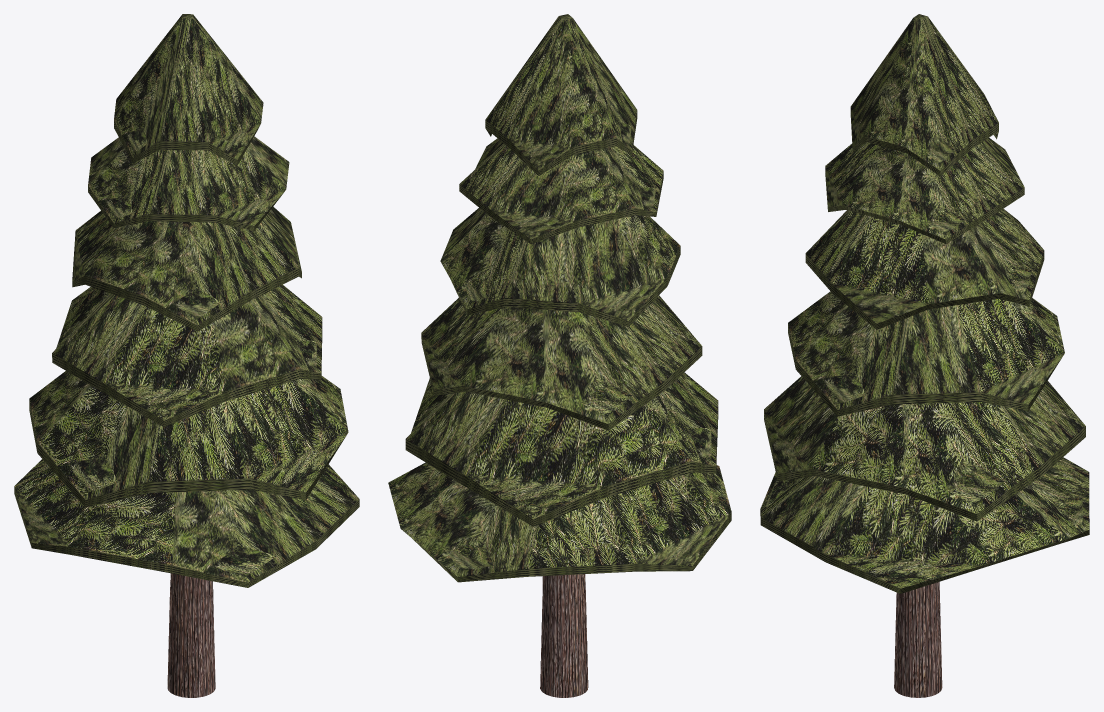
Rendered from Tree.fbx.
The picture shows the model from 3 angles, left to right: view 1: azimuth 30°, elevation 25°; view 2: azimuth 150°, elevation 25°; view 3: azimuth 270°, elevation 25°; orthographic projection.
Parts seen in each view (by area): view 1: Tree; view 2: Tree; view 3: Tree.
Part boxes in pixels (<box>): Tree: <box>14,14,359,697</box>; Tree: <box>388,14,731,697</box>; Tree: <box>760,14,1089,697</box>.
Bounding box in the file's own units: 5.5 × 12.24 × 5.45.
